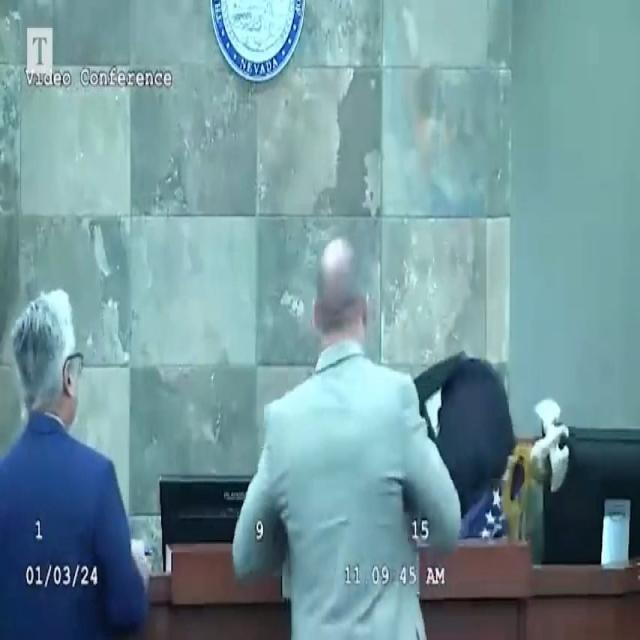non-fight: (232, 227, 461, 640), (0, 283, 152, 640)
